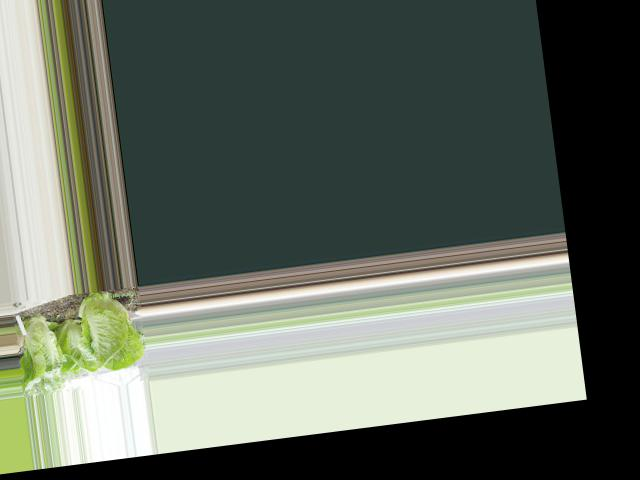lettuce: (17, 303, 70, 389)
